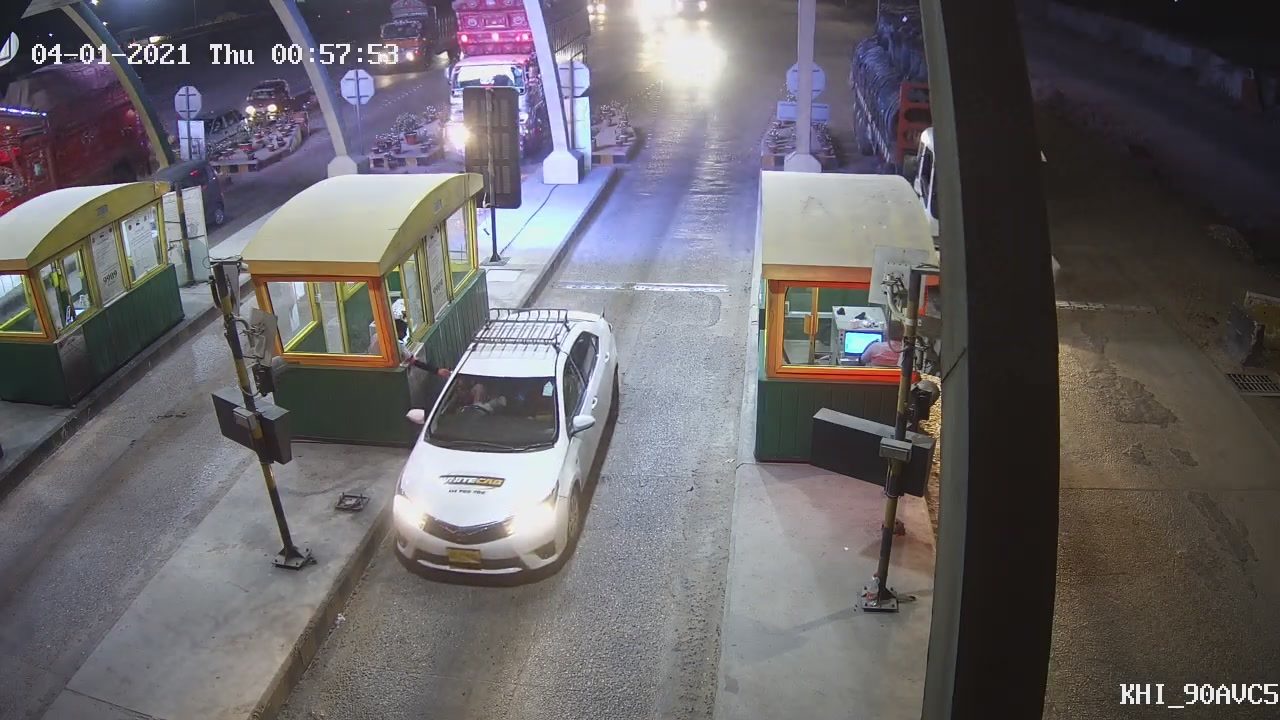F1: (386, 307, 625, 583)
